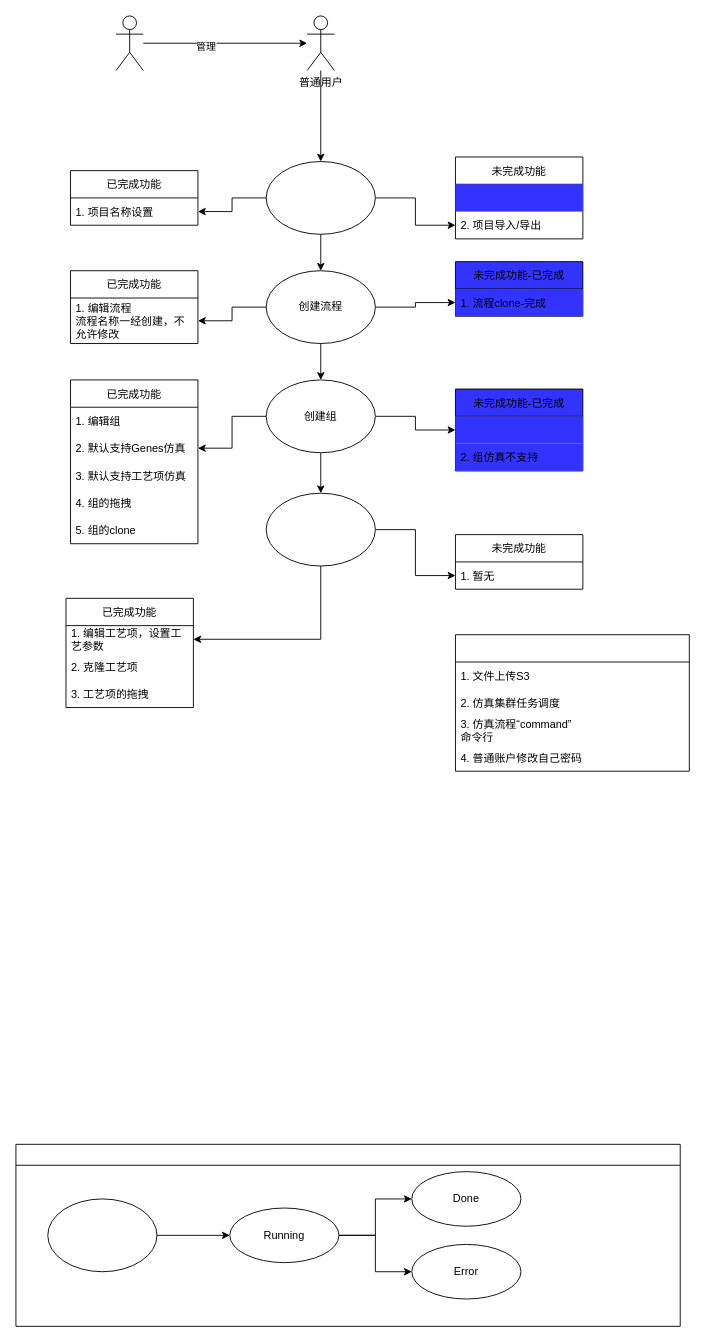
Image size: 705x1342. Some labels were removed from this diagram. The box of each missing label's shape, as (x1, y1, x2, y2) in pixels:
1. 仿真类型切换，cpu 核数指定（不支持）: (455, 416, 582, 443)
1. 项目clone-完成: (455, 184, 582, 211)
Incomplete: (47, 1198, 157, 1272)
仿真状态: (15, 1143, 680, 1326)
其他未完成项: (455, 634, 689, 771)
创建工艺项: (265, 492, 375, 566)
创建项目: (265, 161, 375, 234)
管理员: (115, 15, 143, 71)
